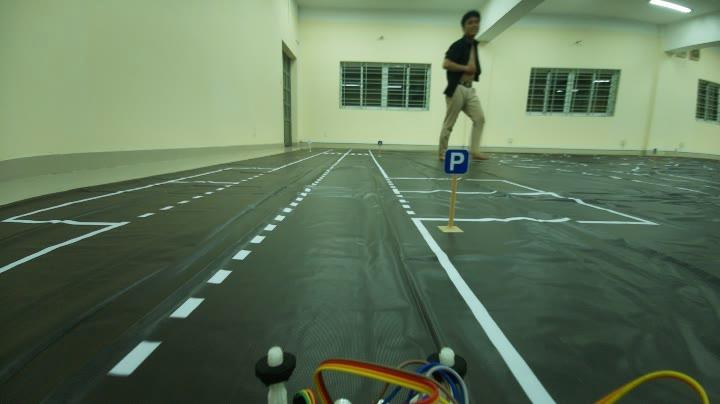parking: (439, 148, 474, 177)
